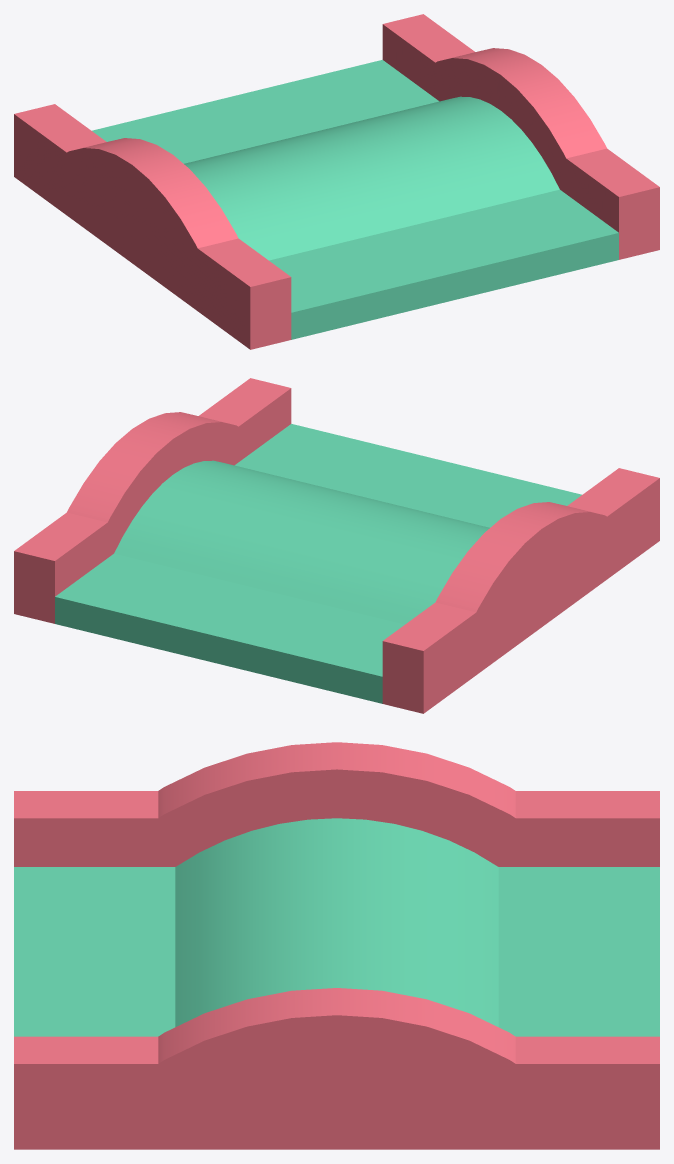
File: hillRound.glb
3 renders of one model, top to bottom at view 1: azimuth 30°, elevation 25°; view 2: azimuth 150°, elevation 25°; view 3: azimuth 270°, elevation 25°, orthographic. The views are drawn at different scales.
Parts seen in each view (by area): view 1: hillRound; view 2: hillRound; view 3: hillRound.
Part boxes in pixels (x1,y1,x2,y2): hillRound: [14, 14, 659, 349]; hillRound: [14, 378, 659, 713]; hillRound: [14, 742, 659, 1149].
Bounding box in the file's own units: 0.9999 × 0.23 × 0.9999.
